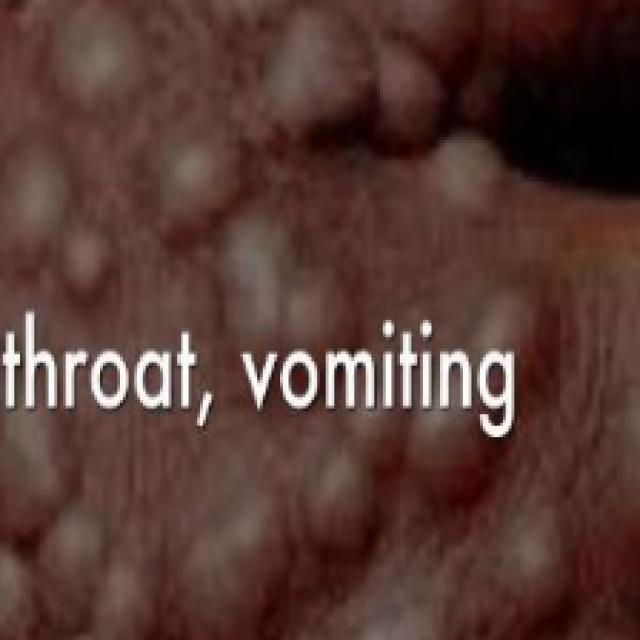Eczema: (2, 0, 569, 640)
